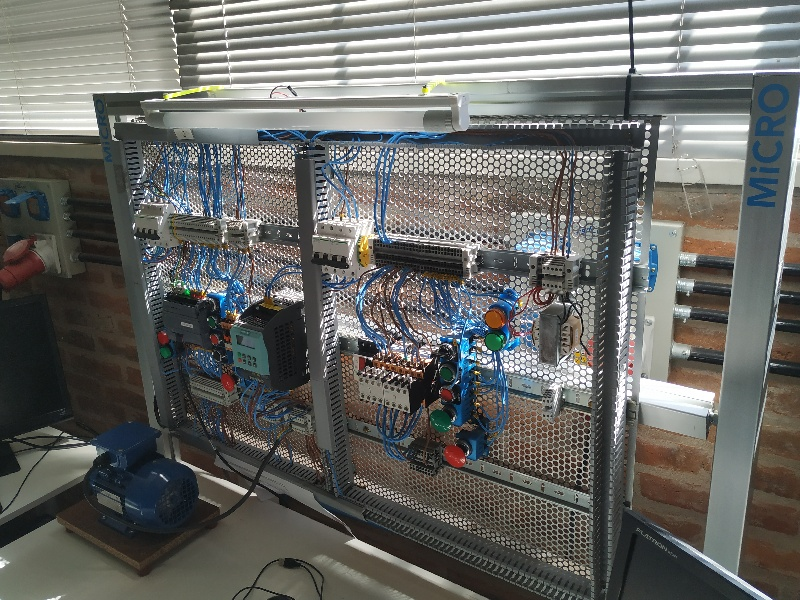Tablero 2: (127, 136, 634, 588)
